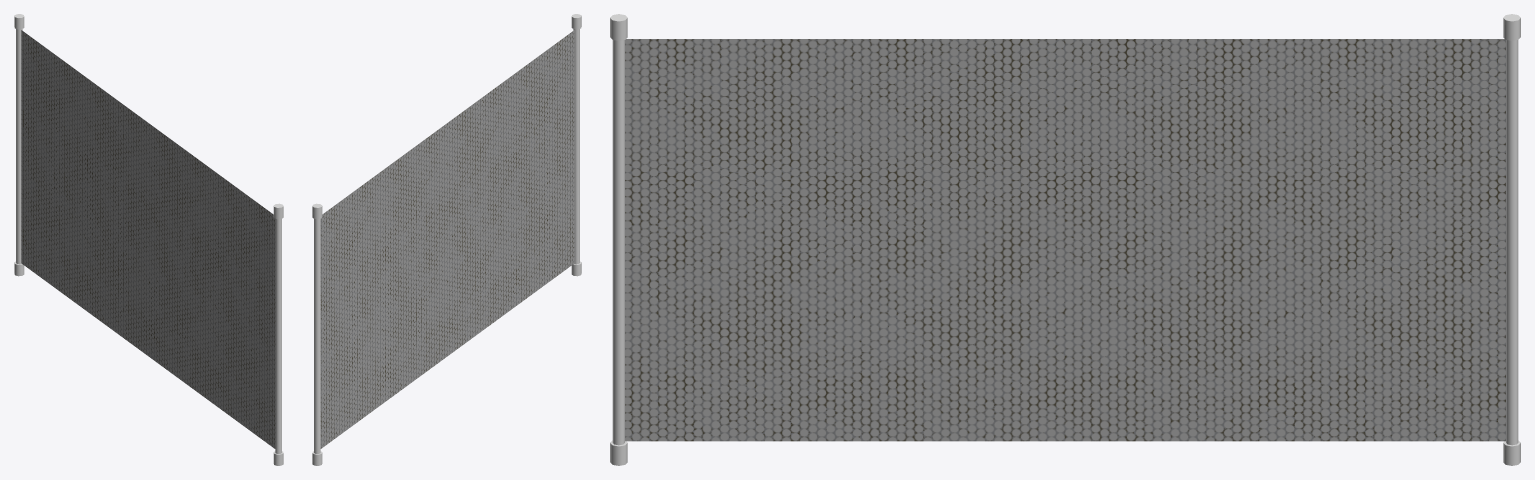
Rendered from Hek.fbx.
The picture shows the model from 3 angles, left to right: view 1: azimuth 30°, elevation 25°; view 2: azimuth 150°, elevation 25°; view 3: azimuth 270°, elevation 25°; orthographic projection. The views are drawn at different scales.
Visible parts, largest first — view 1: Hek; view 2: Hek; view 3: Hek.
Part boxes in pixels (box(x1,y1,x2,y2)): Hek: box(14, 14, 283, 465); Hek: box(312, 14, 581, 465); Hek: box(610, 14, 1520, 465).
Size of the model in its own units: 0.099 by 2.75 by 5.1.
2 materials, 1 textured.
